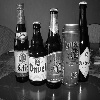beer: (41, 5, 65, 94)
